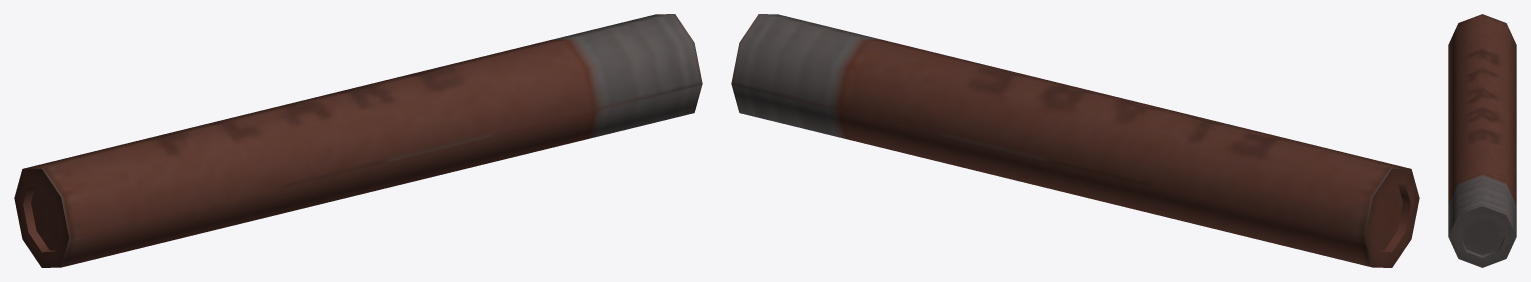
Rendered from flare_mx_1.obj.
3 renders of one model, left to right at view 1: azimuth 30°, elevation 25°; view 2: azimuth 150°, elevation 25°; view 3: azimuth 270°, elevation 25°, orthographic. The views are drawn at different scales.
Visible parts, largest first — view 1: flare_mx_1; view 2: flare_mx_1; view 3: flare_mx_1.
Part boxes in pixels (left/top/right/bottom): flare_mx_1: left=14, top=14, right=702, bottom=267; flare_mx_1: left=731, top=14, right=1419, bottom=267; flare_mx_1: left=1448, top=14, right=1516, bottom=267.
Size of the model in its own units: 0.2 by 0.03 by 0.03.
